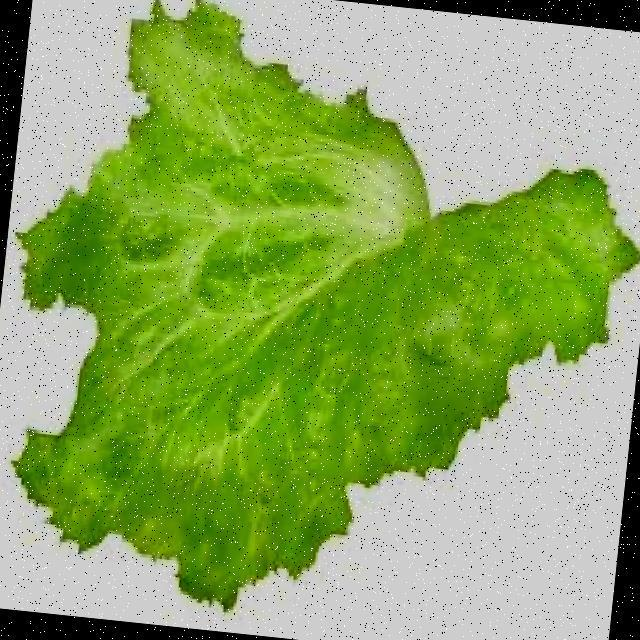Healthy: (74, 96, 574, 581)
